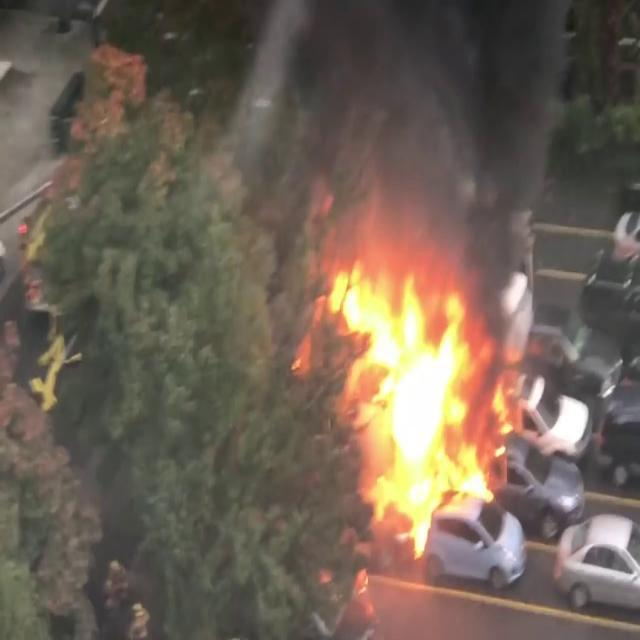Fire: (309, 239, 535, 547)
Smoke: (267, 1, 588, 272)
